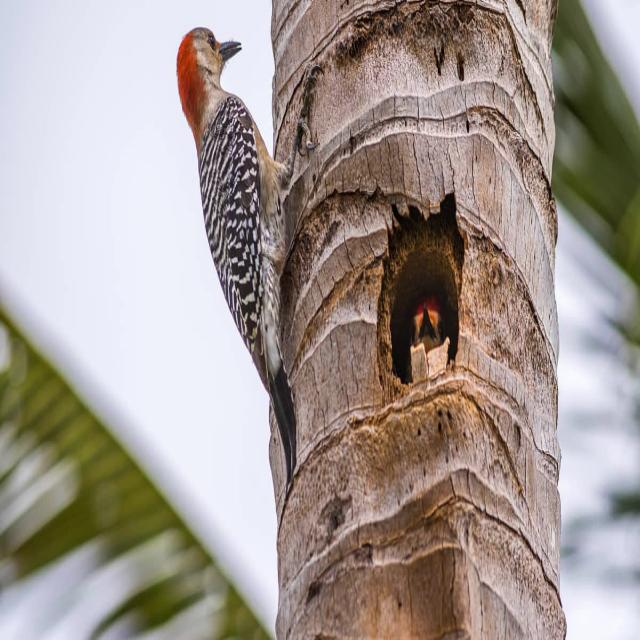woodpecker: (177, 27, 322, 479)
